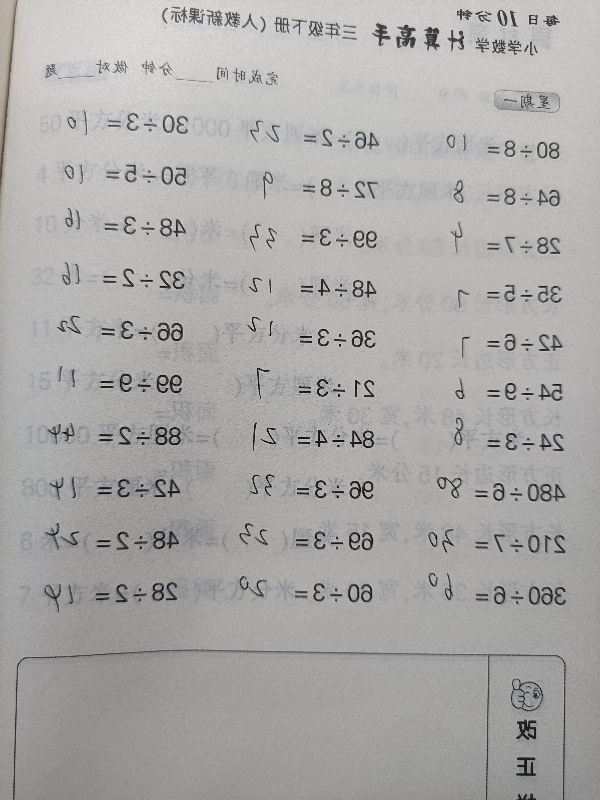equation: (8, 516, 188, 558), (412, 178, 570, 219), (204, 370, 384, 405), (420, 128, 566, 170), (395, 578, 575, 612), (202, 575, 382, 609), (7, 575, 187, 609), (395, 526, 575, 560), (203, 523, 383, 557), (395, 475, 575, 509), (203, 472, 383, 506), (9, 471, 189, 505), (12, 419, 192, 453), (12, 366, 192, 400), (205, 320, 385, 354), (13, 313, 193, 347), (206, 271, 386, 305), (14, 261, 194, 295), (16, 209, 196, 243), (208, 171, 388, 205), (16, 157, 196, 191), (18, 105, 198, 139), (393, 425, 573, 458), (204, 422, 384, 455), (392, 375, 572, 408), (391, 326, 571, 359), (391, 277, 571, 310), (388, 229, 568, 262), (206, 221, 386, 254), (208, 122, 388, 155)
